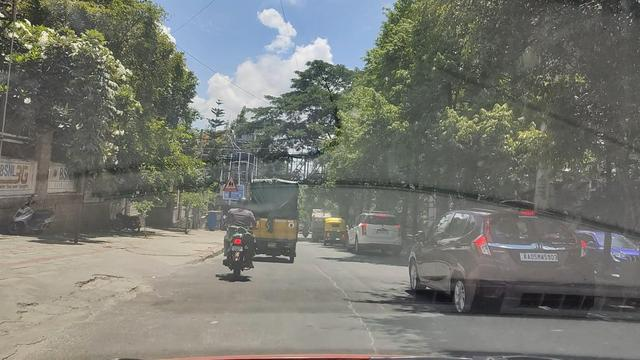HMV: (239, 179, 302, 266)
RoadDamages: (65, 262, 169, 309), (309, 255, 368, 337), (2, 294, 77, 350)
